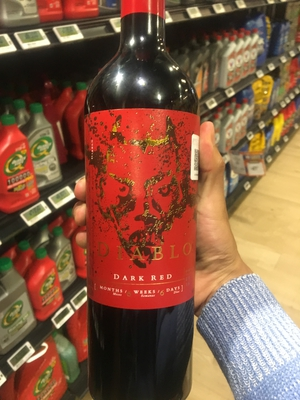diablo dark red: (76, 23, 212, 400)
